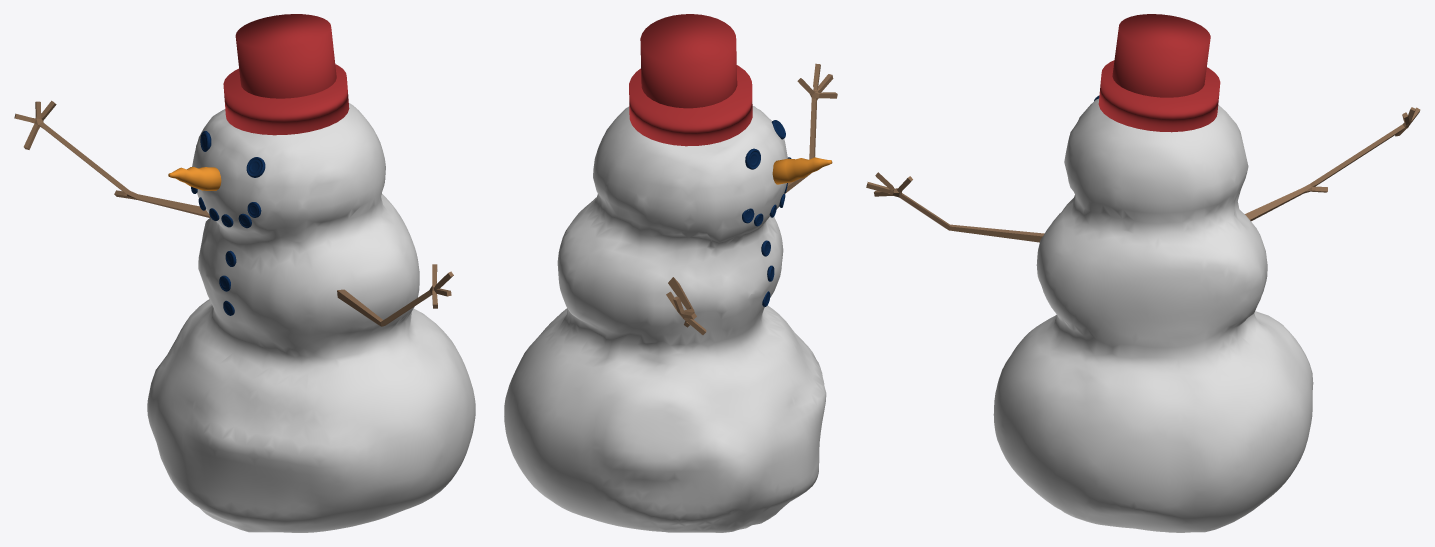
File: snowman2.glb
3 renders of one model, left to right at view 1: azimuth 30°, elevation 25°; view 2: azimuth 150°, elevation 25°; view 3: azimuth 270°, elevation 25°, orthographic. The views are drawn at different scales.
Visible parts, largest first — view 1: snowman, Cylinder.012, Cylinder.013, Cube.004, Cube, Cylinder.011; view 2: snowman, Cylinder.012, Cylinder.013, Cube, Cylinder.011, Cube.004; view 3: snowman, Cylinder.012, Cylinder.013, Cube, Cube.004.
Part boxes in pixels (x1,y1,x2,y2): snowman: (147, 103, 475, 532); Cylinder.012: (235, 14, 336, 98); Cylinder.013: (223, 64, 349, 135); Cube.004: (14, 100, 210, 217); Cube: (337, 264, 453, 326); Cylinder.011: (168, 167, 221, 190); snowman: (504, 106, 826, 532); Cylinder.012: (640, 14, 737, 108); Cylinder.013: (629, 65, 752, 146); Cube: (784, 63, 837, 193); Cylinder.011: (772, 157, 832, 184); Cube.004: (666, 277, 706, 334); snowman: (993, 98, 1313, 532); Cylinder.012: (1112, 14, 1210, 97); Cylinder.013: (1098, 60, 1220, 132); Cube: (866, 172, 1044, 242); Cube.004: (1245, 107, 1420, 221).
Size of the model in its own units: 1.84 by 2.8 by 3.05.
